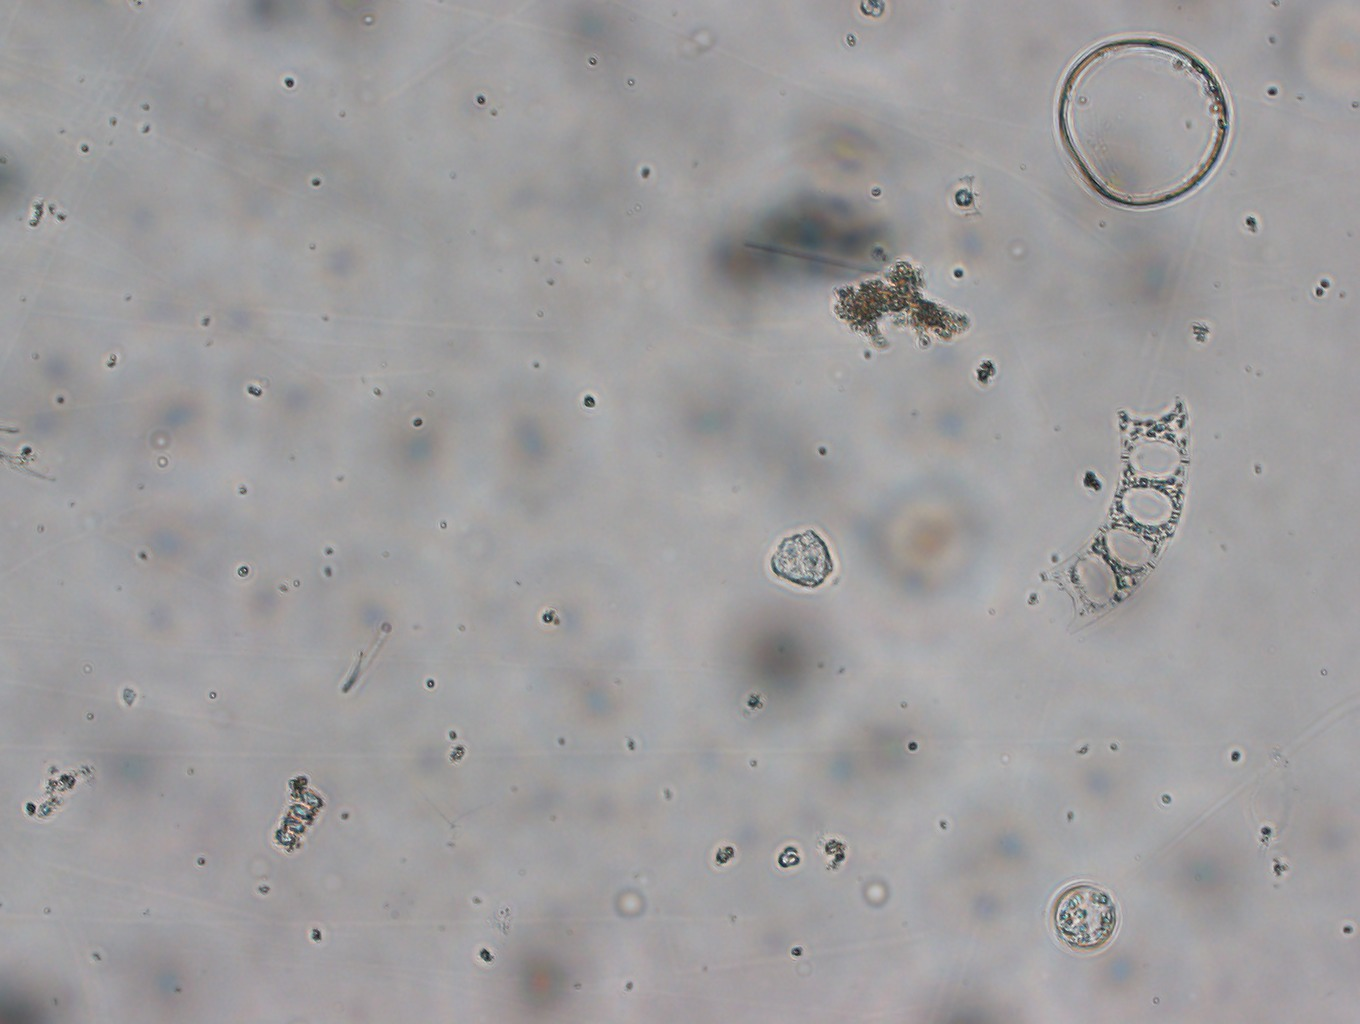coscinodiscus: (1044, 872, 1131, 959)
eucampia: (1041, 392, 1196, 657)
